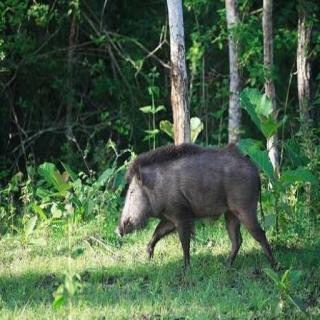Pig: (88, 135, 287, 280)
